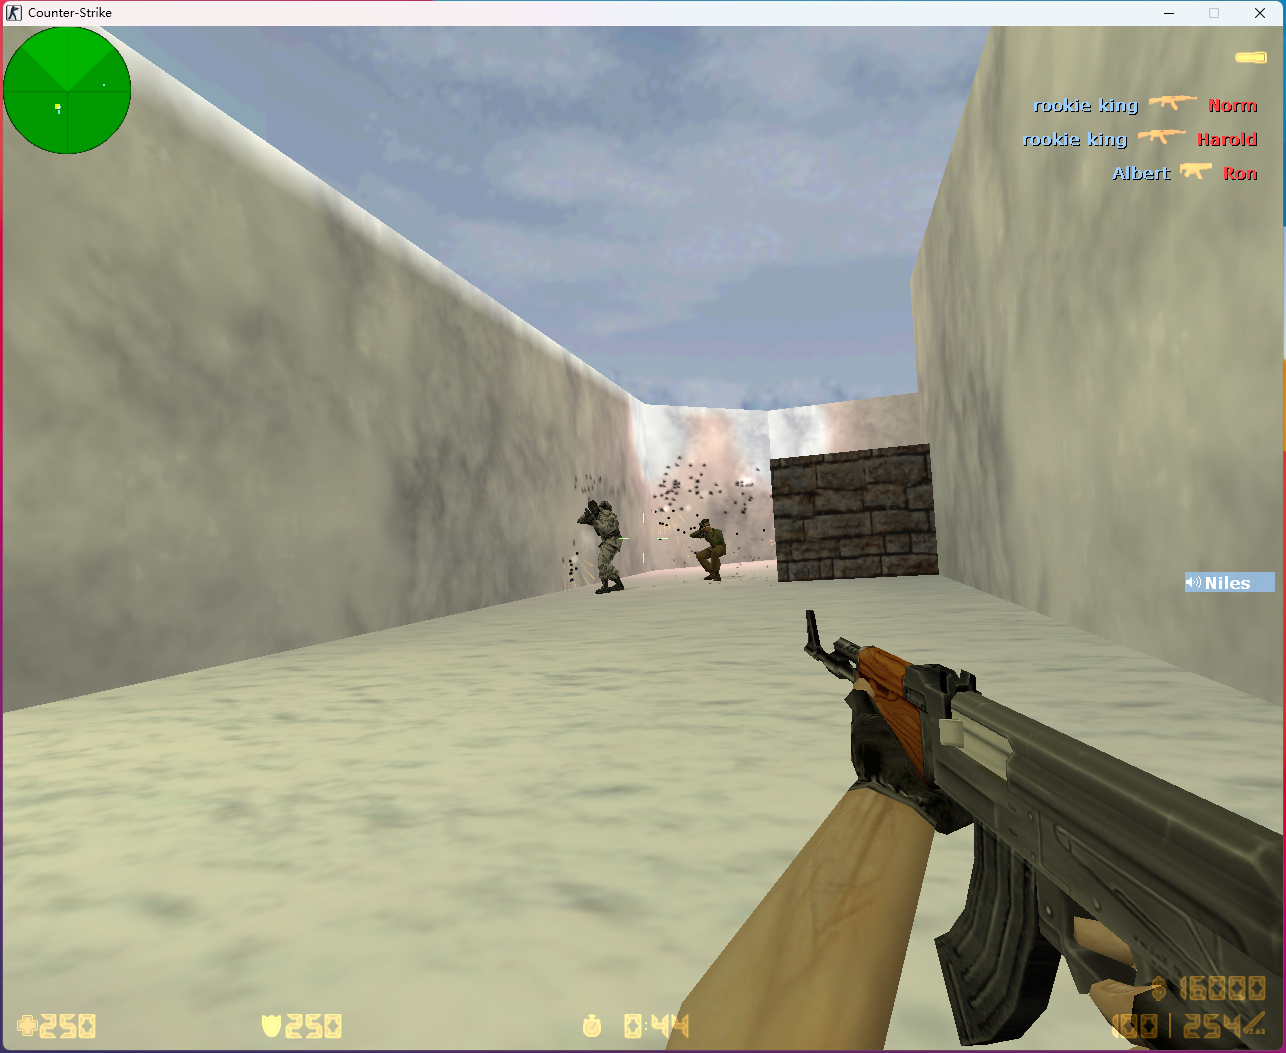T: (573, 499, 624, 593), (689, 518, 726, 580)
